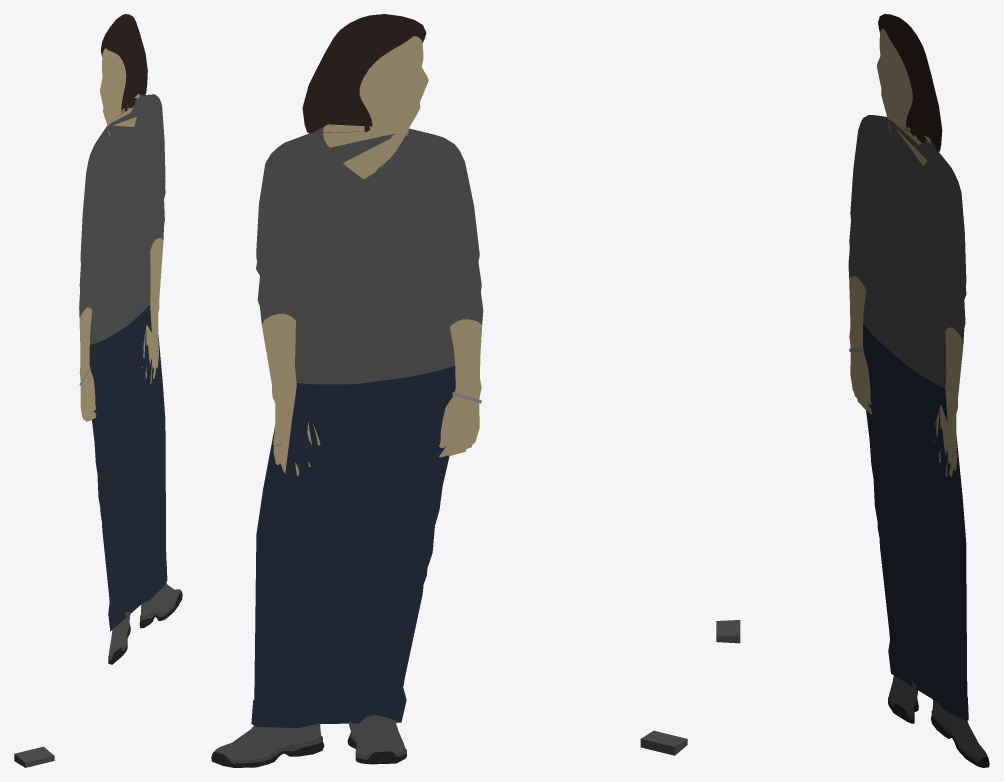
Rendered from roadblock_gray.obj.
The picture shows the model from 3 angles, left to right: view 1: azimuth 30°, elevation 25°; view 2: azimuth 150°, elevation 25°; view 3: azimuth 270°, elevation 25°; orthographic projection. The views are drawn at different scales.
Parts seen in each view (by area): view 1: Mesh1 Susan1 Model, Mesh2 Mesh_4_1 skp107_1 Model; view 2: Mesh1 Susan1 Model, Mesh2 Mesh_4_1 skp107_1 Model; view 3: Mesh1 Susan1 Model, Mesh2 Mesh_4_1 skp107_1 Model.
Part boxes in pixels (x1,y1,x2,y2): Mesh1 Susan1 Model: (79, 14, 182, 664); Mesh2 Mesh_4_1 skp107_1 Model: (14, 746, 54, 767); Mesh1 Susan1 Model: (211, 14, 483, 767); Mesh2 Mesh_4_1 skp107_1 Model: (640, 730, 687, 755); Mesh1 Susan1 Model: (848, 14, 989, 767); Mesh2 Mesh_4_1 skp107_1 Model: (716, 620, 740, 643).
Size of the model in its own units: 30.67 by 66.99 by 23.58.
